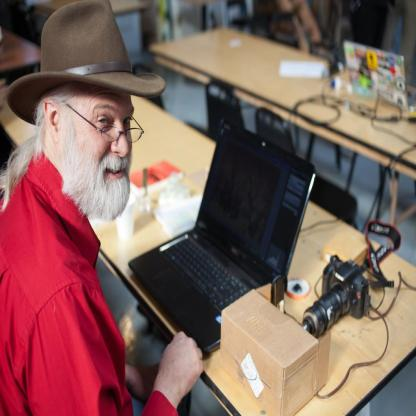board: (130, 123, 312, 361), (345, 41, 416, 116)
